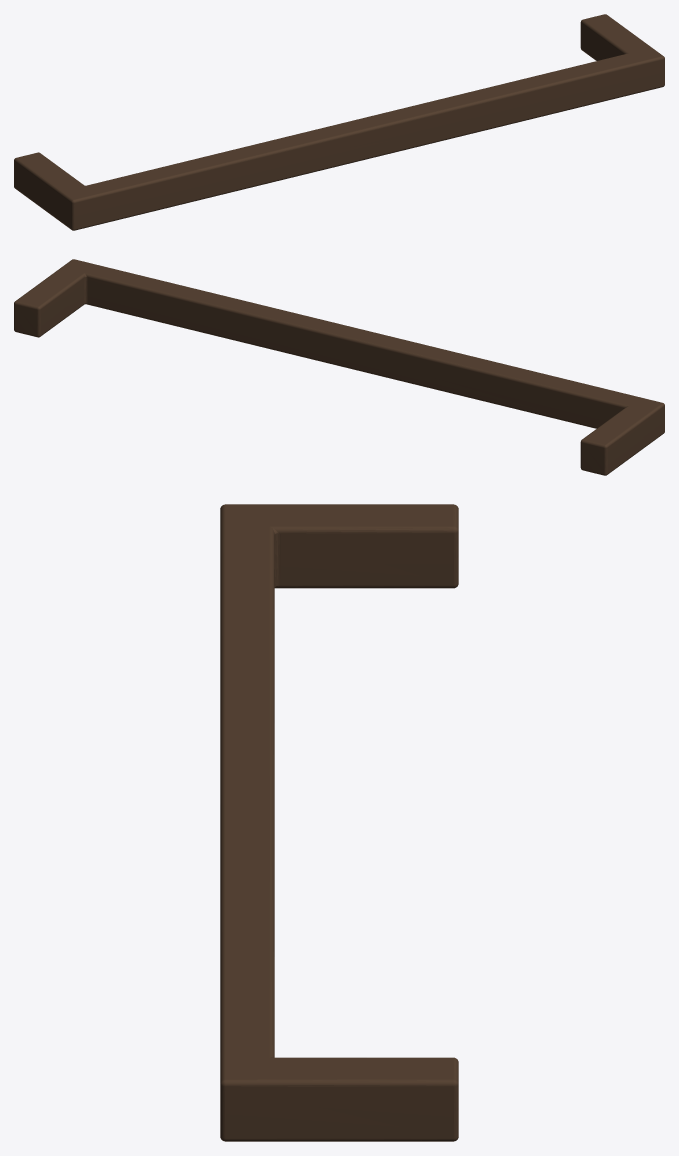
File: eurofit-h-61415-192orb-v3.glb
3 views of the same model, one above another, from view 1: azimuth 30°, elevation 25°; view 2: azimuth 150°, elevation 25°; view 3: azimuth 270°, elevation 25° (orthographic). The views are drawn at different scales.
Parts seen in each view (by area): view 1: Continuous U grip and legs; view 2: Continuous U grip and legs; view 3: Continuous U grip and legs.
Boxes of the visible parts, bbox=[...] form: Continuous U grip and legs: bbox=[14, 14, 664, 230]; Continuous U grip and legs: bbox=[14, 259, 664, 475]; Continuous U grip and legs: bbox=[220, 504, 458, 1141].
Bounding box in the file's own units: 0.201 × 0.01 × 0.035.
